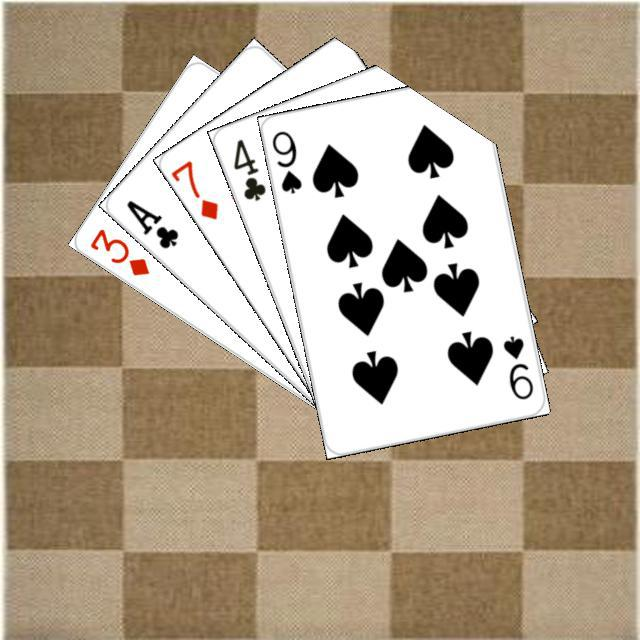3d: (85, 223, 152, 278)
4c: (228, 134, 268, 203)
7d: (167, 155, 220, 222)
9s: (498, 331, 535, 402), (267, 126, 304, 195)
Ac: (121, 195, 181, 251)
